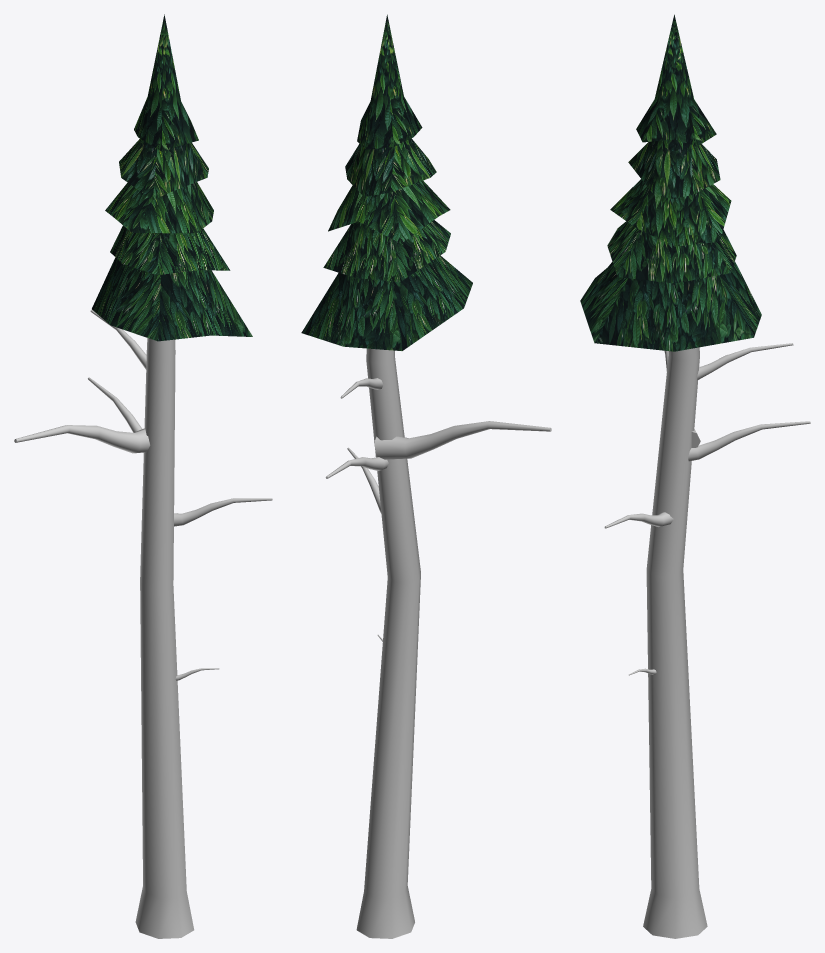
File: ArbolTres.fbx
3 renders of one model, left to right at view 1: azimuth 30°, elevation 25°; view 2: azimuth 150°, elevation 25°; view 3: azimuth 270°, elevation 25°, orthographic.
Parts seen in each view (by area): view 1: Object062; view 2: Object062; view 3: Object062.
Boxes of the visible parts, x1,y1,x2,y2 form: Object062: (14,14,272,938); Object062: (301,14,551,938); Object062: (580,14,810,938).
Bounding box in the file's own units: 0.4643 × 1.76 × 0.4021.
